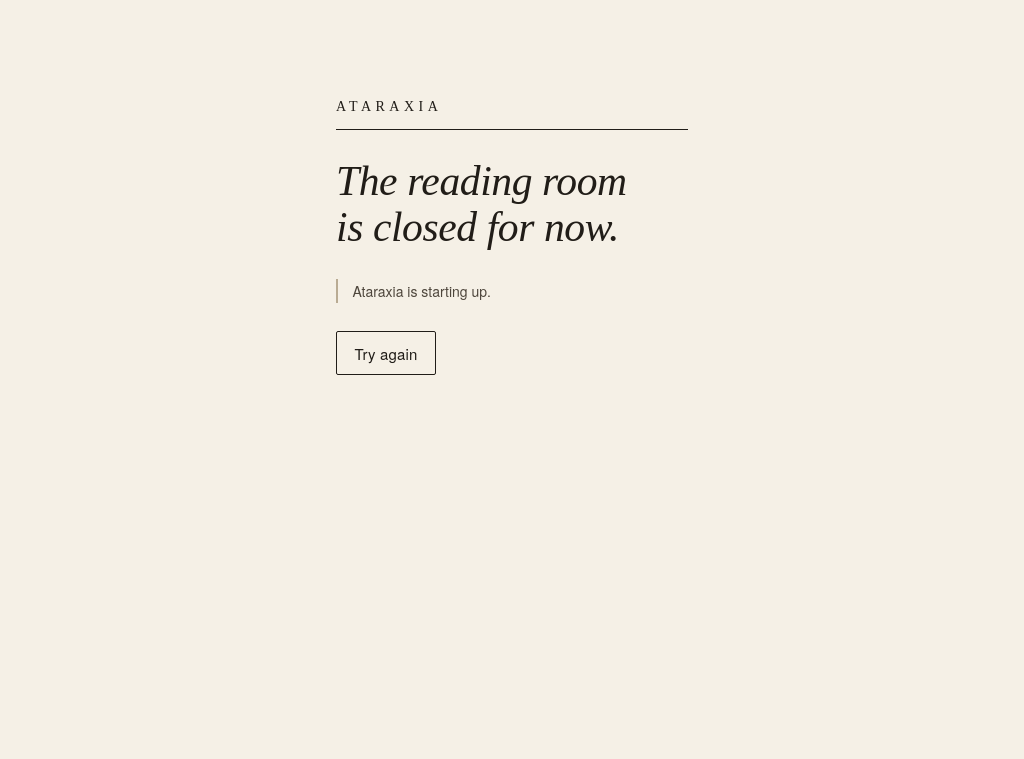
it: Sign-in › offers a retry when the server cannot be reached
The width and height of the screenshot is (1024, 759).
Expected: the message reads "Ataraxia is starting up.", [352,281,491,301]
Click the button "Try again".
click(386, 353)  # box [336,331,436,375]
(page scrolled)
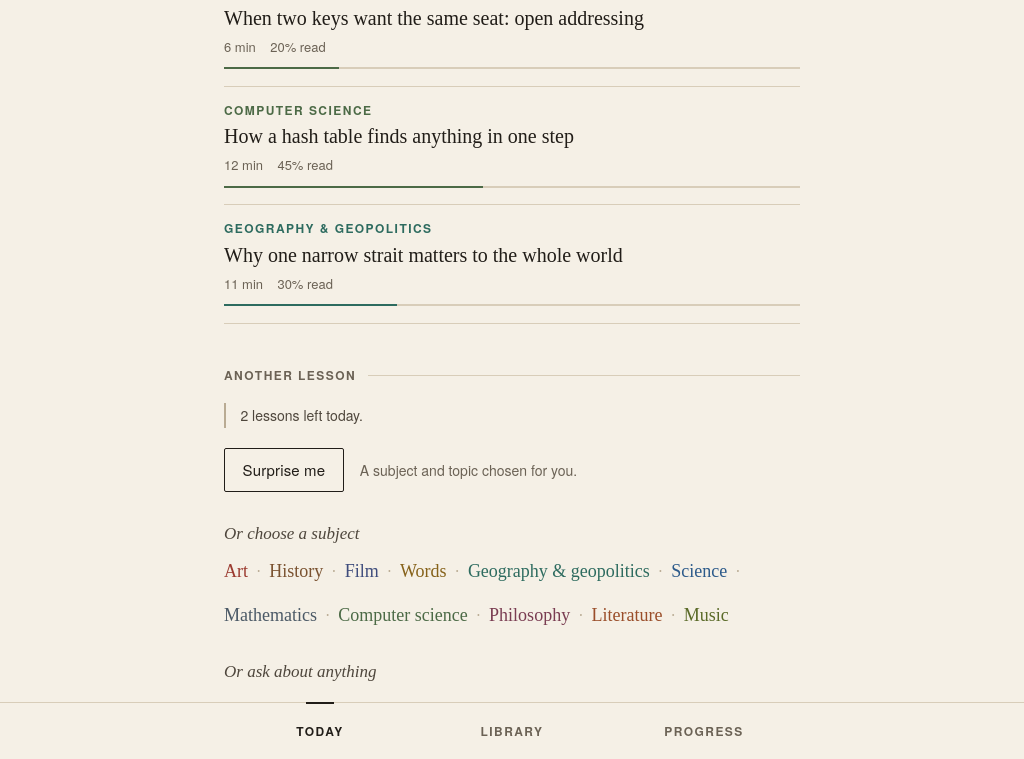
Result: the heading "Another lesson" is shown at [224,366,356,384]
